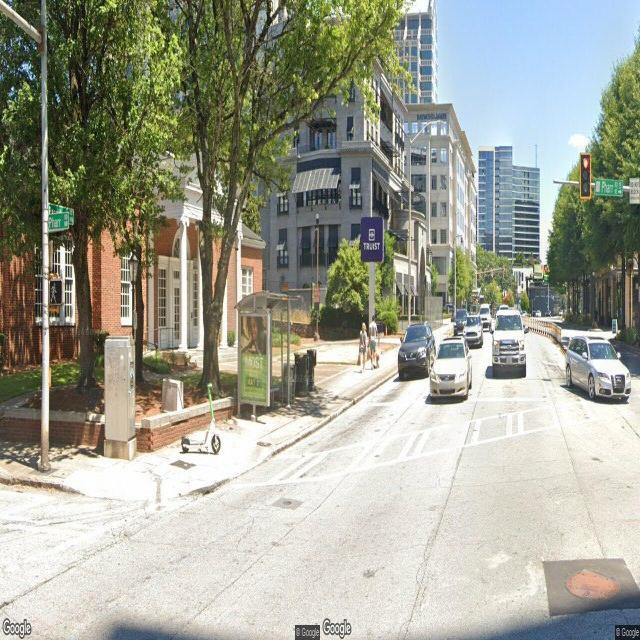seating: (270, 386, 280, 410)
shelter: (234, 289, 310, 424)
trash_can: (294, 352, 310, 397), (284, 362, 298, 404)
